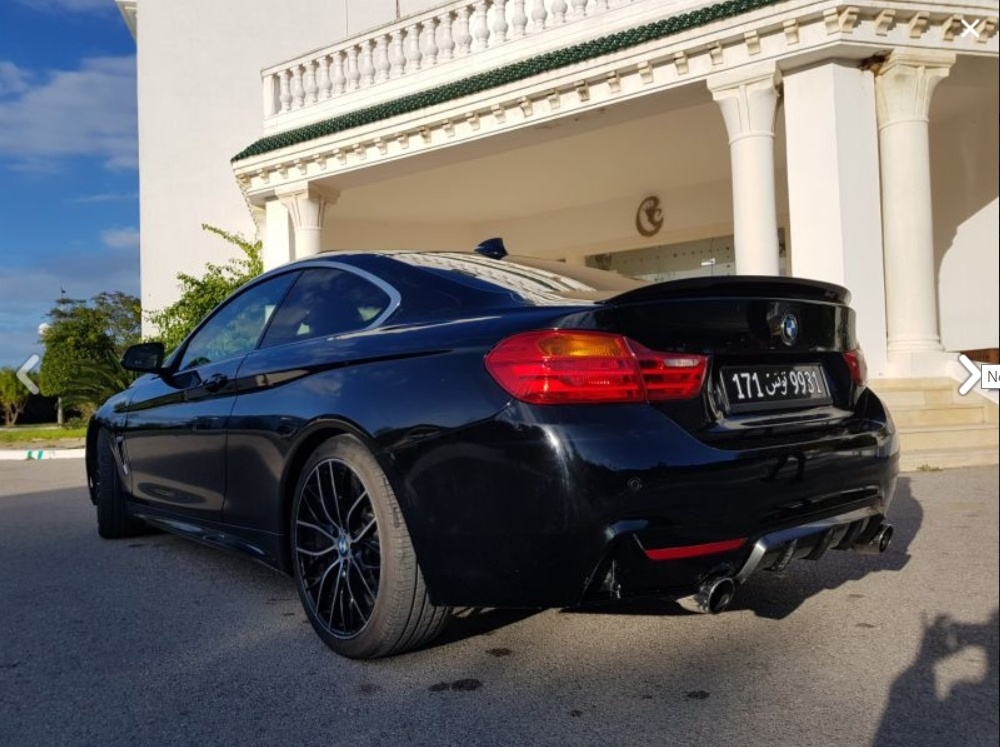LP: (713, 359, 839, 410)
